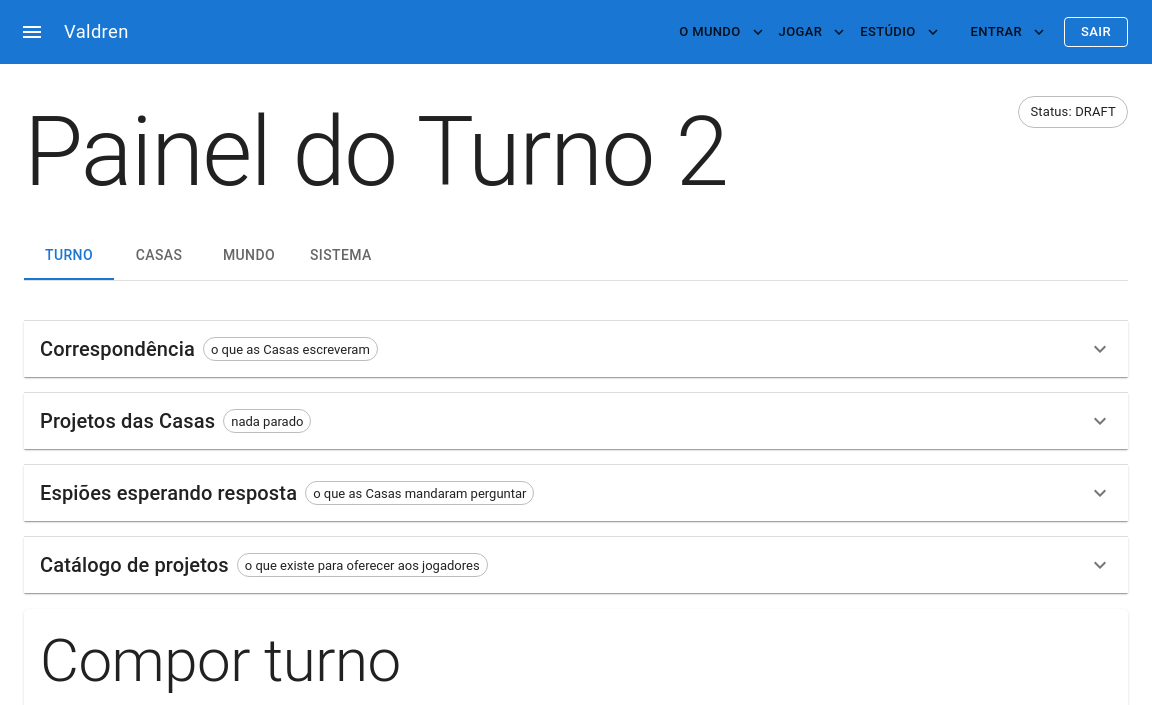
it: AdminPage › mostra a galeria canônica em Mundo → Imagens
Expected: the heading "Painel do Turno 2" is shown, left=24, top=96, right=727, bottom=208
What coordinates should you click on to do the following:
click the tab "Mundo"
I would click on:
 (249, 256)
Its box is left=204, top=232, right=294, bottom=280.
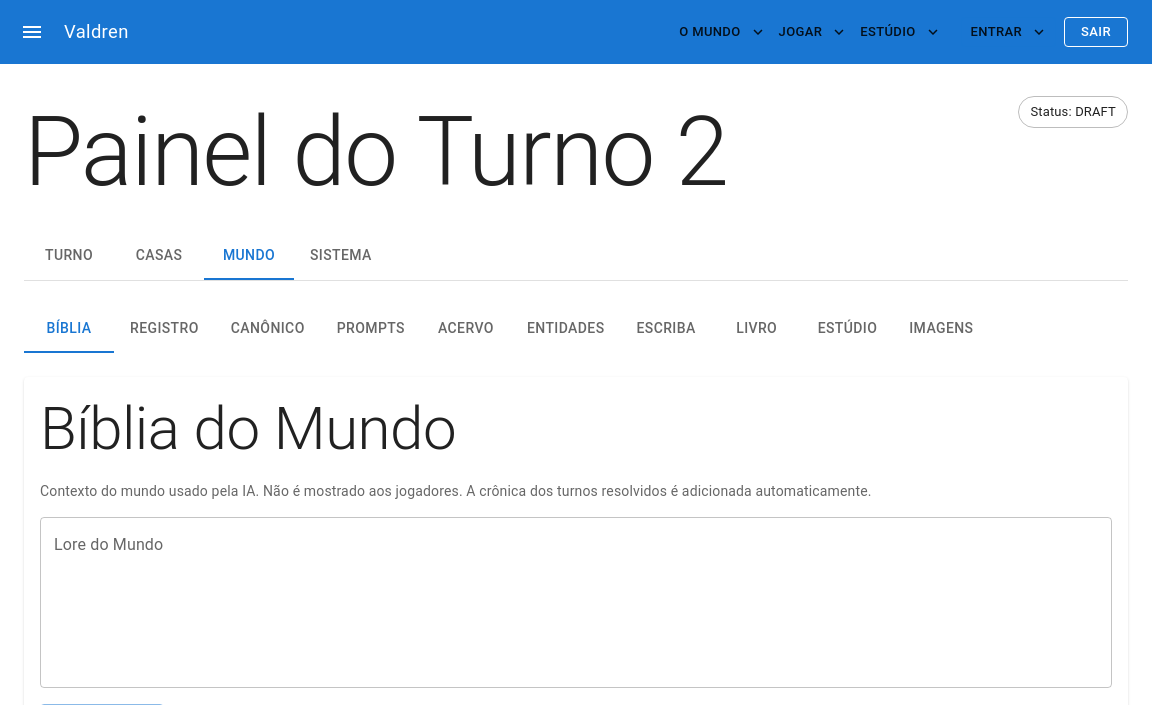
What coordinates should you click on to do the following:
click the tab "Imagens"
I would click on:
 (941, 329)
Its box is left=893, top=305, right=990, bottom=353.
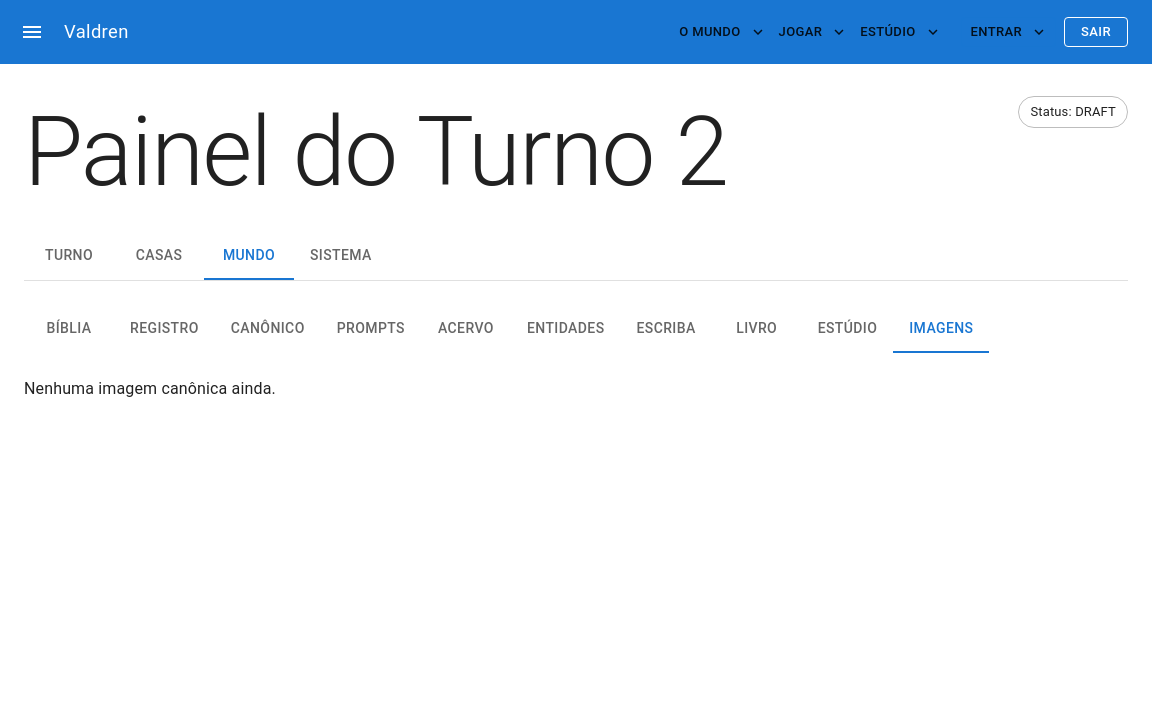
Expected: the text "Nenhuma imagem canônica ainda." is shown, left=24, top=379, right=276, bottom=398
